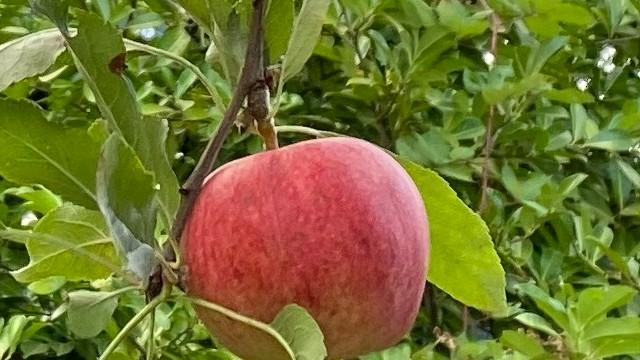fruit: (179, 137, 430, 360)
